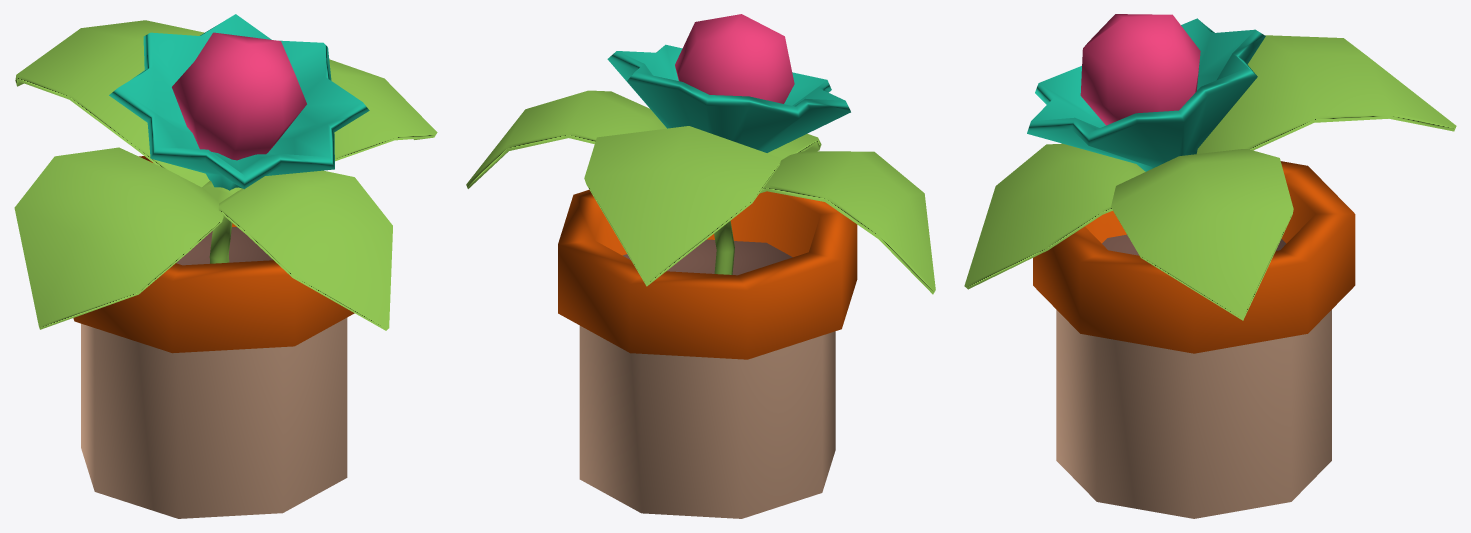
The model's file is Plant3 lv2.fbx.
3 renders of one model, left to right at view 1: azimuth 30°, elevation 25°; view 2: azimuth 150°, elevation 25°; view 3: azimuth 270°, elevation 25°, orthographic. The views are drawn at different scales.
Visible parts, largest first — view 1: Plant3_lv2; view 2: Plant3_lv2; view 3: Plant3_lv2.
Part boxes in pixels (x1=…): Plant3_lv2: x1=14, y1=14, x2=437, y2=518; Plant3_lv2: x1=466, y1=14, x2=935, y2=518; Plant3_lv2: x1=964, y1=14, x2=1456, y2=518.
Bounding box in the file's own units: 90.07 × 88.07 × 88.69.
